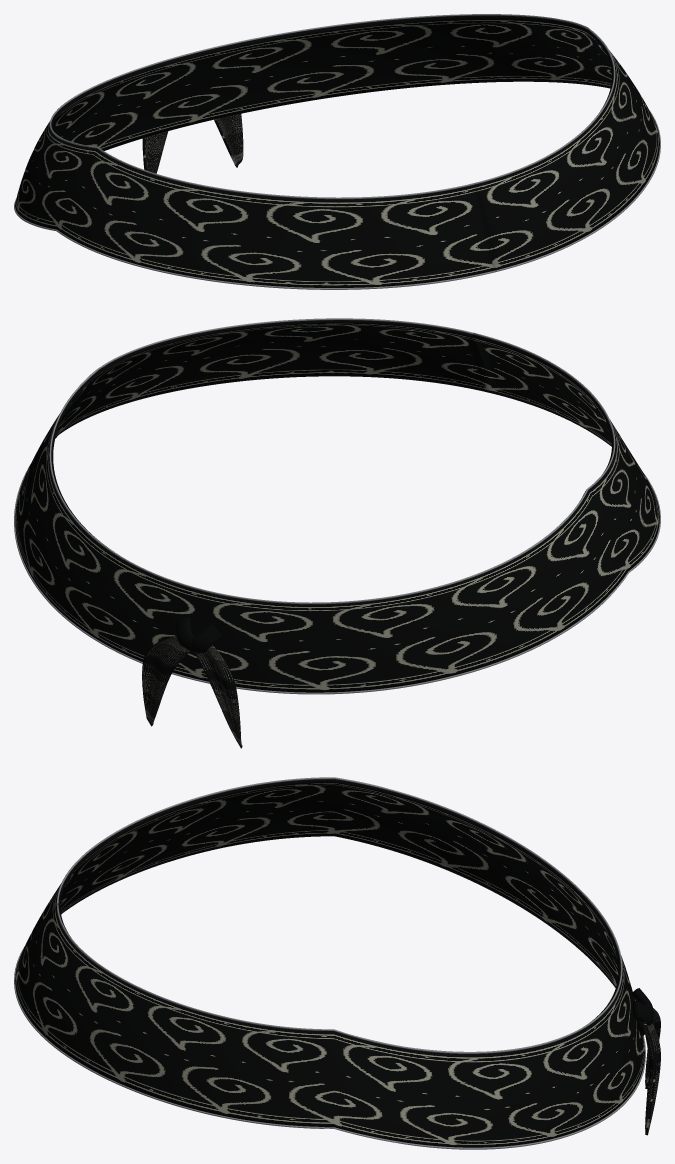
Rendered from Masculine-locs-bandana-headgear.glb.
3 views of the same model, one above another, from view 1: azimuth 30°, elevation 25°; view 2: azimuth 150°, elevation 25°; view 3: azimuth 270°, elevation 25° (orthographic). The views are drawn at different scales.
Parts seen in each view (by area): view 1: 226 headgear / Headwear / bandana235, 226 headgear / Headwear / bandana hem235; view 2: 226 headgear / Headwear / bandana235, 226 headgear / Headwear / bandana hem235; view 3: 226 headgear / Headwear / bandana235, 226 headgear / Headwear / bandana hem235.
Part boxes in pixels (<box>): 226 headgear / Headwear / bandana235: <box>15,15,659,287</box>; 226 headgear / Headwear / bandana hem235: <box>14,14,660,289</box>; 226 headgear / Headwear / bandana235: <box>15,320,659,748</box>; 226 headgear / Headwear / bandana hem235: <box>14,318,660,694</box>; 226 headgear / Headwear / bandana235: <box>15,779,660,1147</box>; 226 headgear / Headwear / bandana hem235: <box>14,777,645,1149</box>.
Bounding box in the file's own units: 1.03 × 0.3404 × 0.9493.
Materials: 2 (1 with a texture image).
